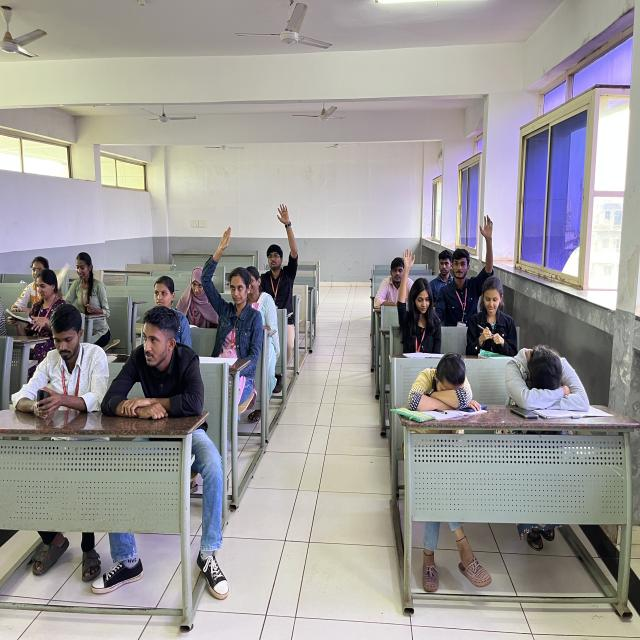Hand Rising: (191, 218, 265, 362), (249, 193, 305, 320), (388, 239, 448, 351), (439, 213, 496, 304)
Reading: (176, 253, 214, 329)
Sleeping: (496, 322, 611, 435), (391, 345, 496, 438)
Using Phone: (10, 304, 109, 422)
